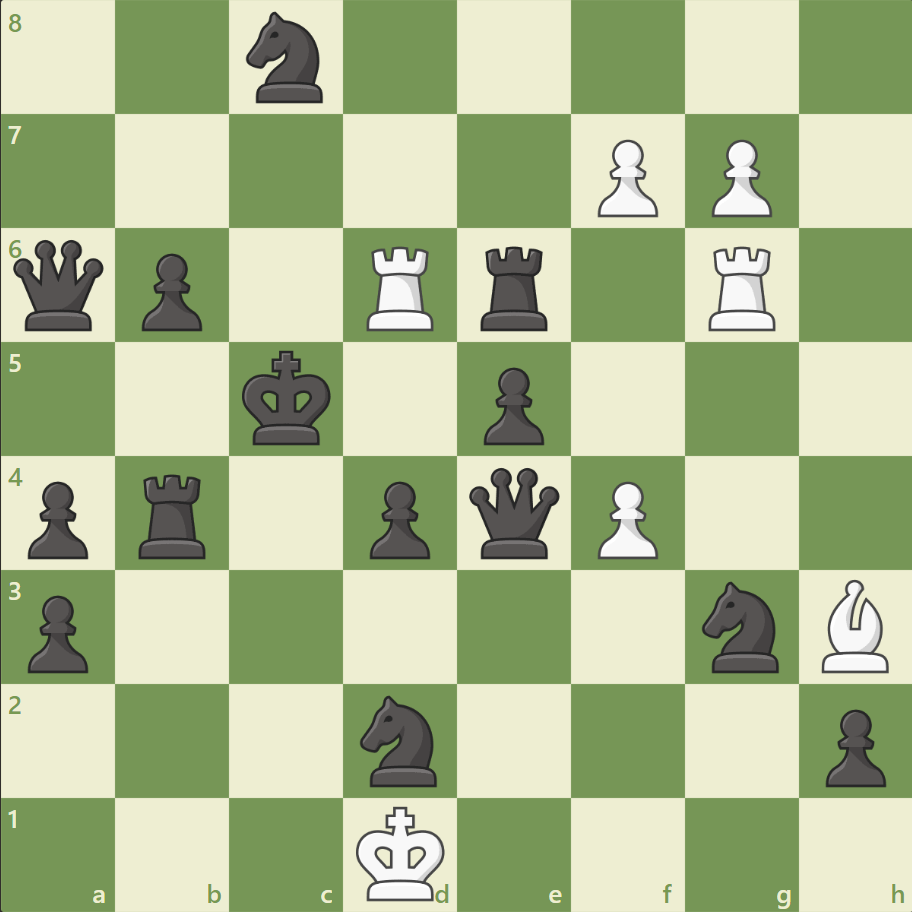B: (812, 574, 896, 676)
K: (351, 798, 451, 906)
P: (701, 132, 776, 223), (588, 132, 662, 223), (588, 473, 662, 564)
R: (700, 239, 783, 336), (360, 239, 442, 336)
k: (238, 344, 338, 452)
n: (351, 688, 449, 791), (238, 7, 335, 110), (692, 575, 789, 677)
p: (133, 246, 208, 337), (474, 359, 549, 450), (20, 473, 95, 564), (20, 586, 95, 677), (361, 473, 435, 564), (815, 700, 889, 791)
q: (10, 236, 109, 335), (464, 463, 563, 562)
r: (473, 239, 556, 336), (133, 466, 215, 563)
